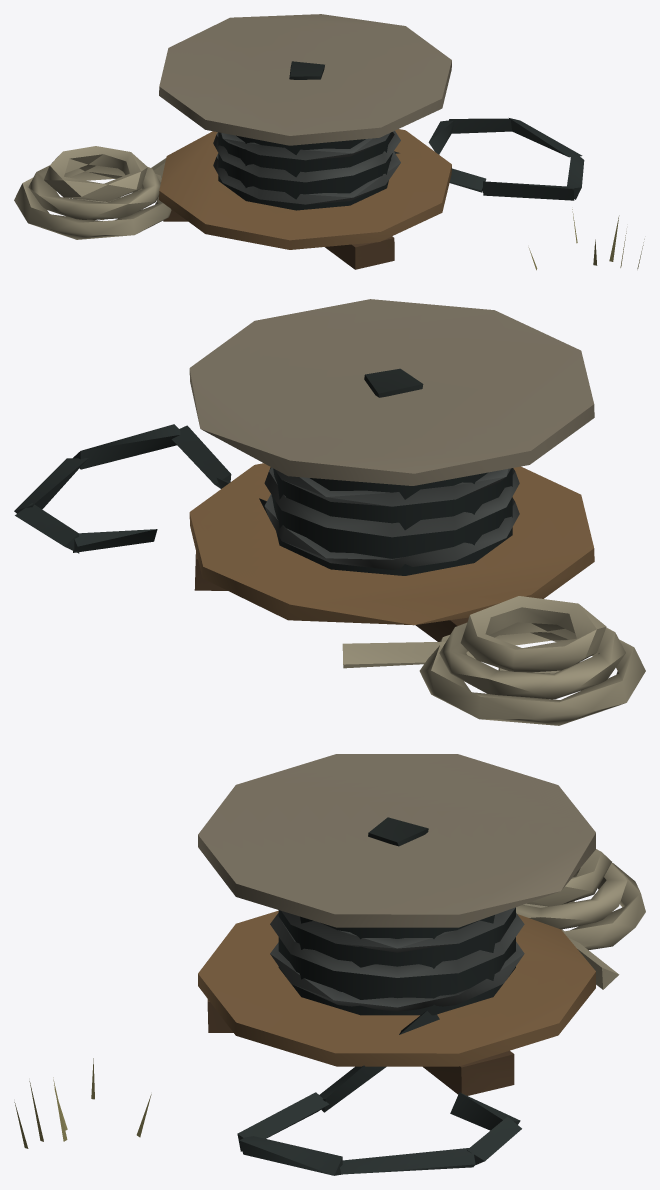
File: cable_drum_b_lod1.glb
3 renders of one model, top to bottom at view 1: azimuth 30°, elevation 25°; view 2: azimuth 150°, elevation 25°; view 3: azimuth 270°, elevation 25°, orthographic. The views are drawn at different scales.
Visible parts, largest first — view 1: Surface.001; view 2: Surface.001; view 3: Surface.001.
Part boxes in pixels (x1,y1,x2,y2): Surface.001: (14, 14, 644, 270); Surface.001: (14, 299, 645, 725); Surface.001: (14, 754, 645, 1175).
Bounding box in the file's own units: 5.78 × 1.68 × 4.95.
